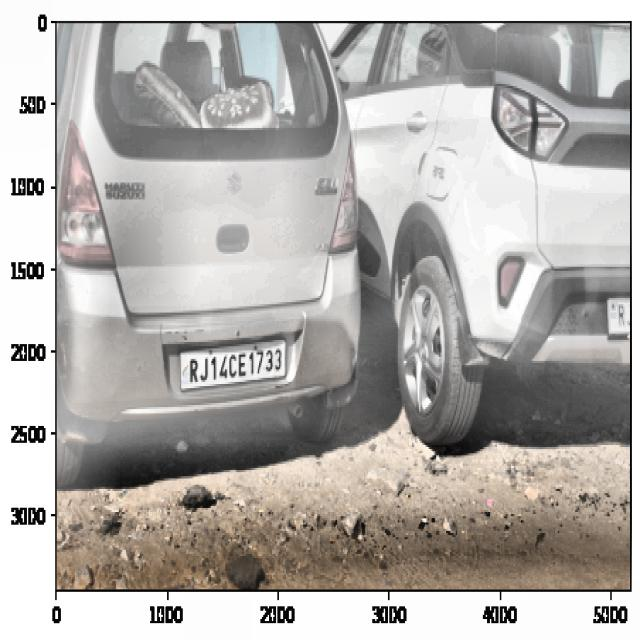license_plate: (185, 344, 288, 386)
